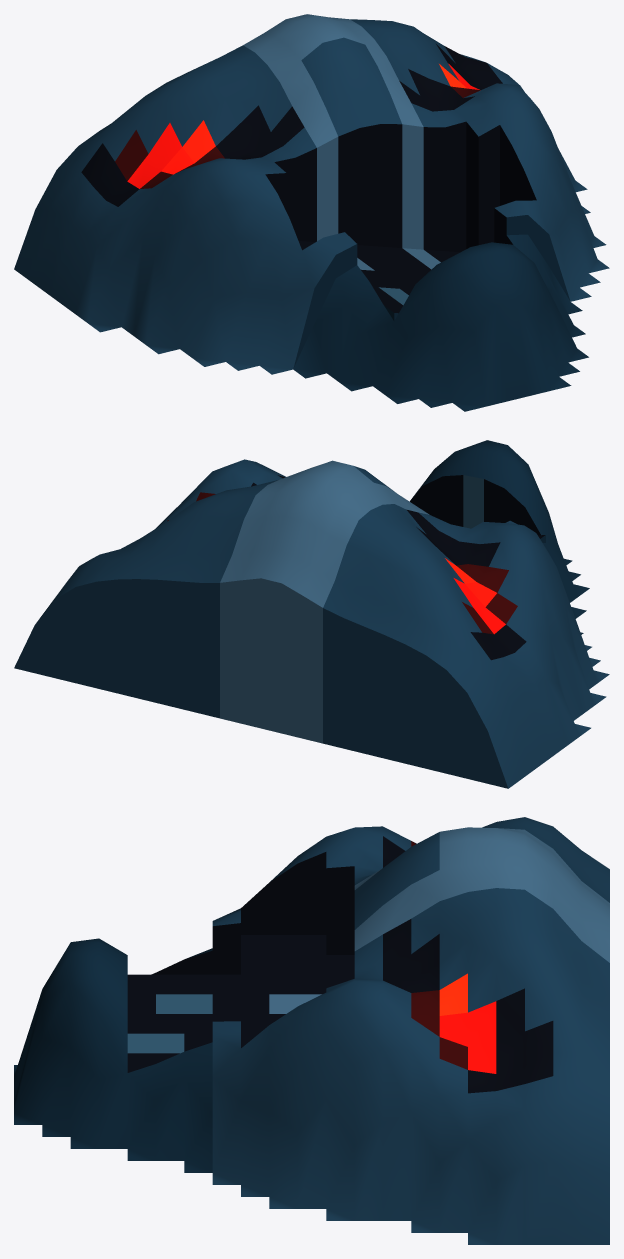
The model's file is newsh0-119-f2.glb.
3 views of the same model, one above another, from view 1: azimuth 30°, elevation 25°; view 2: azimuth 150°, elevation 25°; view 3: azimuth 270°, elevation 25° (orthographic). The views are drawn at different scales.
Parts seen in each view (by area): view 1: newsh0-119-f2; view 2: newsh0-119-f2; view 3: newsh0-119-f2.
Boxes of the visible parts, <box> form: newsh0-119-f2: <box>14,14,609,411</box>; newsh0-119-f2: <box>14,440,609,788</box>; newsh0-119-f2: <box>14,817,609,1244</box>.
Size of the model in its own units: 2 by 0.8477 by 1.75.
